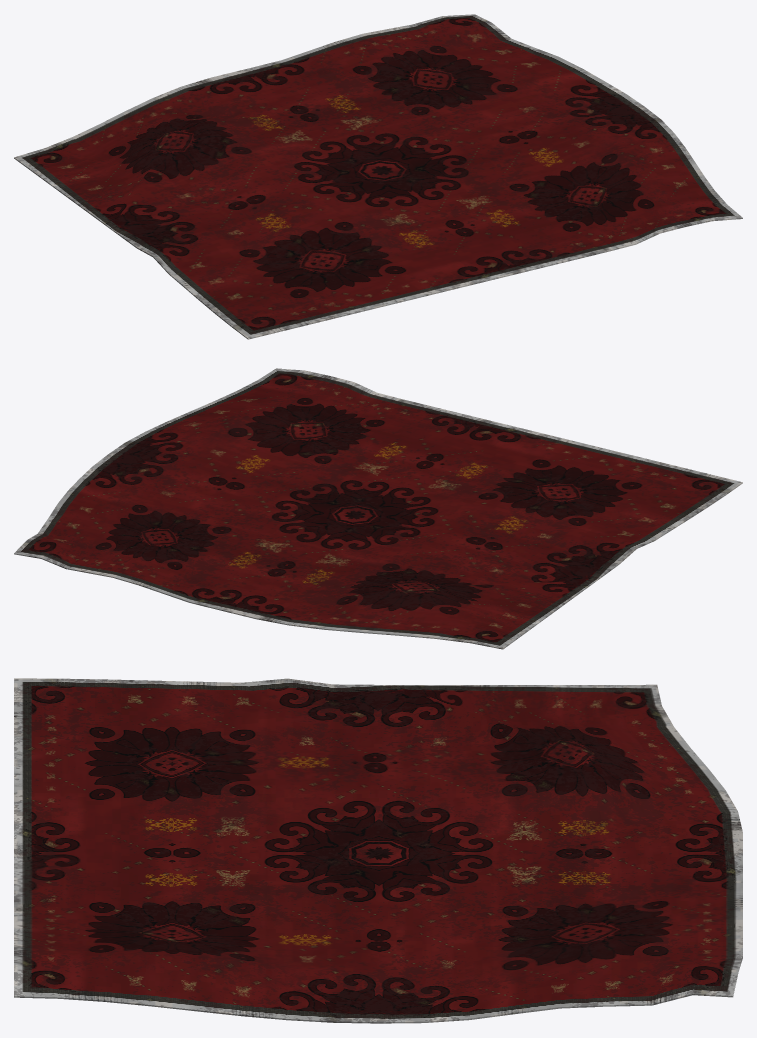
Rendered from Square Rug 01 Shaggy.fbx.
The picture shows the model from 3 angles, top to bottom: view 1: azimuth 30°, elevation 25°; view 2: azimuth 150°, elevation 25°; view 3: azimuth 270°, elevation 25°; orthographic projection. The views are drawn at different scales.
Visible parts, largest first — view 1: Plane; view 2: Plane; view 3: Plane.
Part boxes in pixels (box(x1,y1,x2,y2)): Plane: box(14, 14, 742, 339); Plane: box(14, 368, 742, 649); Plane: box(14, 678, 742, 1023).
Size of the model in its own units: 399 by 9.67 by 357.
